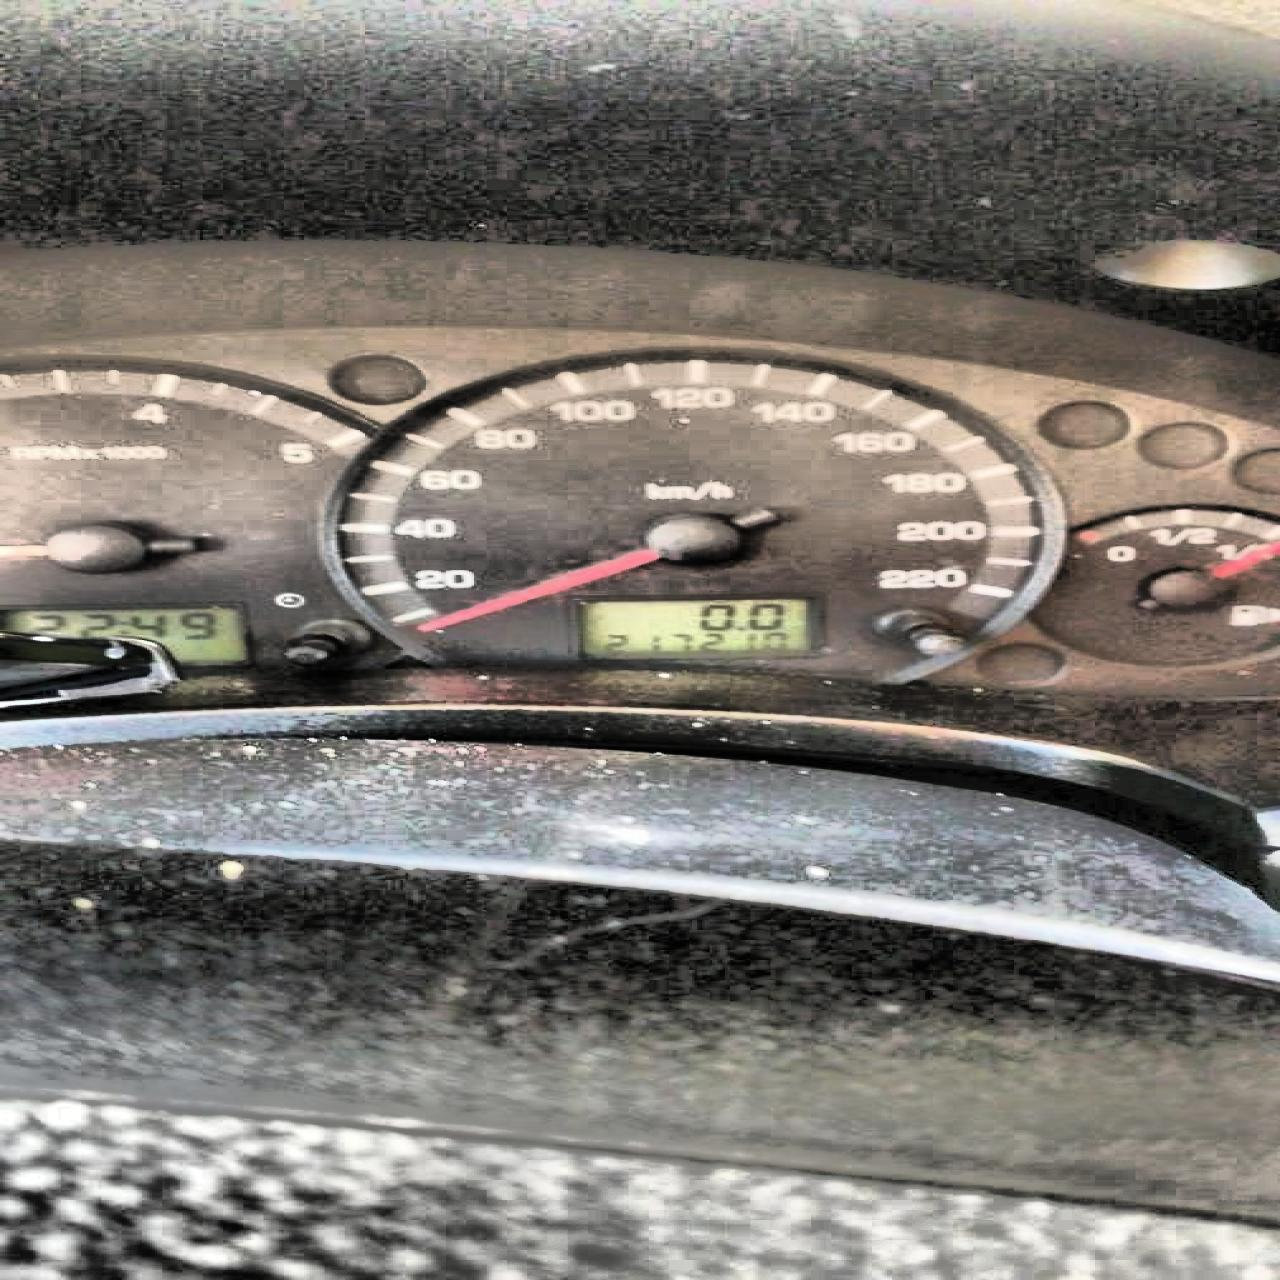-: (733, 626, 742, 632)
0: (745, 602, 781, 628), (697, 604, 730, 628), (758, 629, 787, 651)
1: (646, 633, 659, 653), (743, 631, 755, 651)
2: (601, 633, 626, 653), (697, 632, 720, 653)
7: (667, 632, 693, 653)
odometer: (563, 591, 829, 661)
